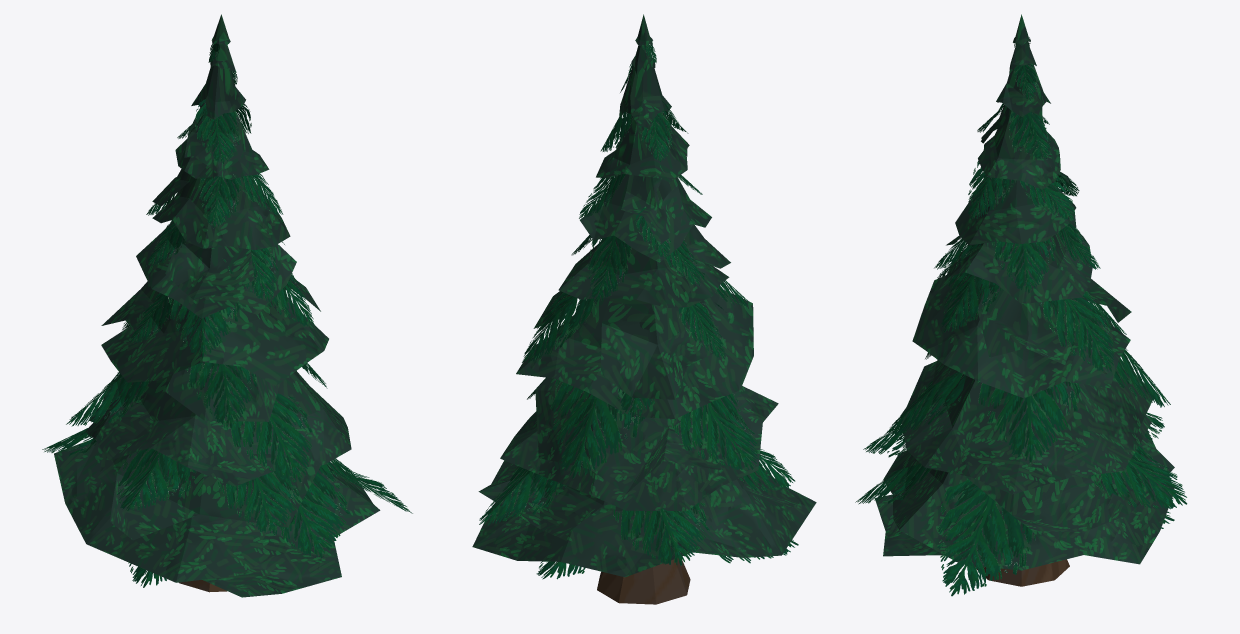
File: 2C_Tree_tall.fbx
3 views of the same model, side by side, from view 1: azimuth 30°, elevation 25°; view 2: azimuth 150°, elevation 25°; view 3: azimuth 270°, elevation 25° (orthographic). The views are drawn at different scales.
Parts seen in each view (by area): view 1: Cube; view 2: Cube; view 3: Cube.
Boxes of the visible parts, x1,y1,x2,y2 form: Cube: [42, 14, 412, 597]; Cube: [472, 14, 816, 604]; Cube: [855, 14, 1187, 596].
Size of the model in its own units: 9.76 by 15.05 by 9.4.
